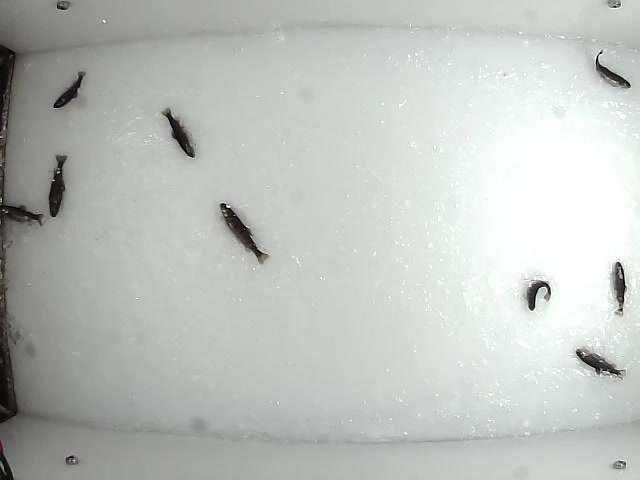fish: (219, 201, 271, 267), (160, 106, 197, 161), (573, 346, 628, 383), (594, 47, 634, 91), (45, 151, 70, 220), (50, 69, 89, 111), (609, 257, 635, 316), (1, 202, 46, 226), (524, 277, 552, 313)
